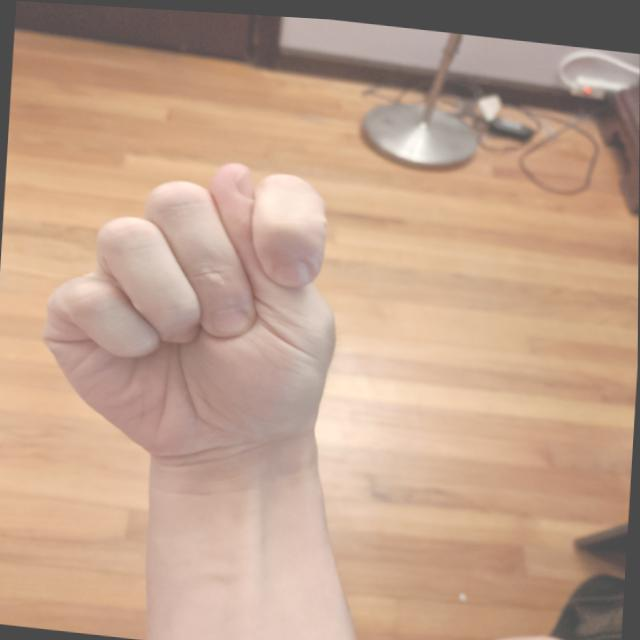T: (31, 138, 355, 480)
